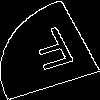F: (25, 25, 83, 79)
